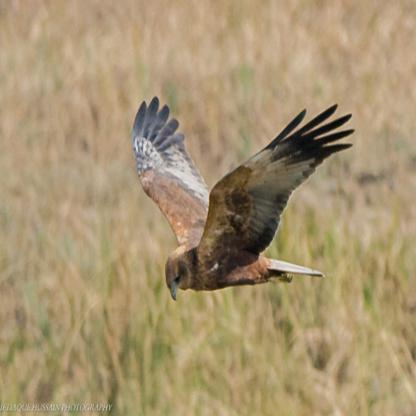Burung: (132, 96, 356, 302)
